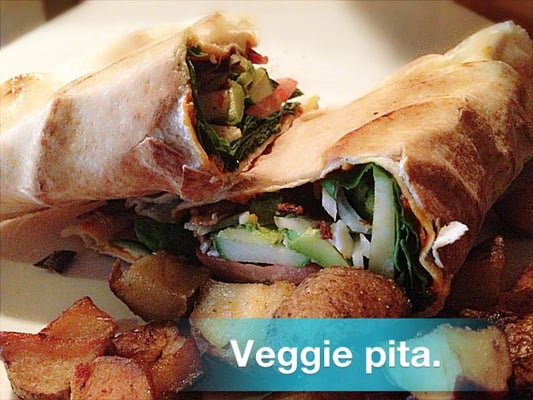soup: (3, 8, 530, 342), (178, 15, 533, 321)
